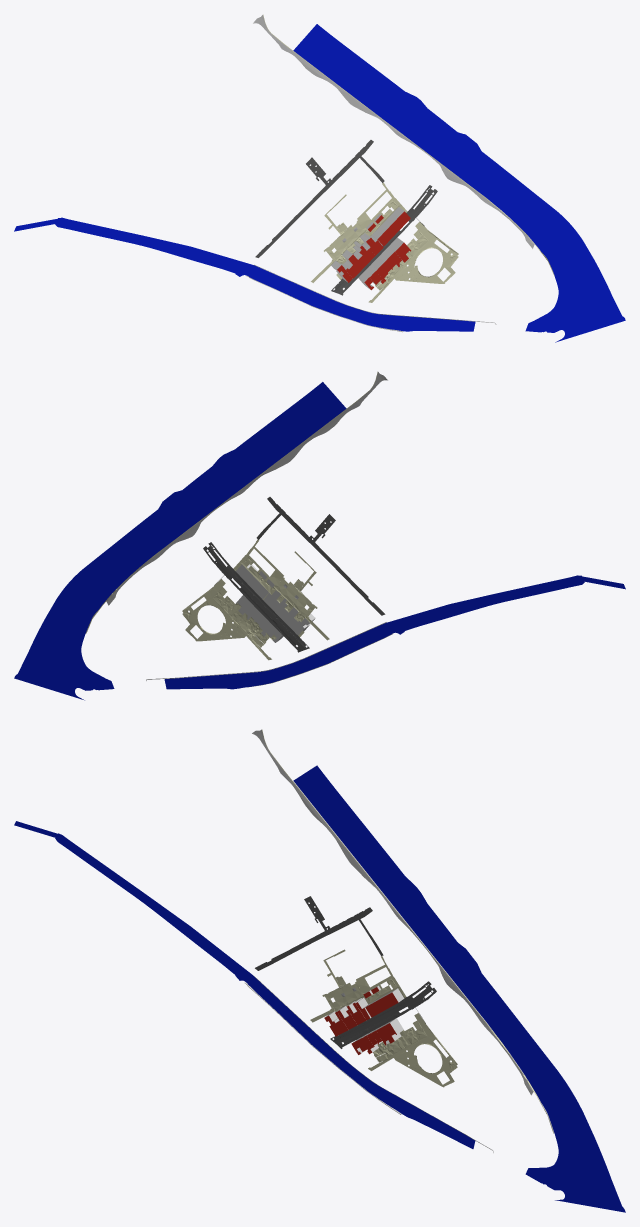
The model's file is extent_purple.obj.
The picture shows the model from 3 angles, top to bottom: view 1: azimuth 30°, elevation 25°; view 2: azimuth 150°, elevation 25°; view 3: azimuth 330°, elevation 25°; orthographic projection.
Parts seen in each view (by area): view 1: b69a8d7bc-2d38-11e6-9a38-393caa90be70, bedab6302-00c8-11e6-b420-2bdcc4ab5d7f, b2c160b4d-2d29-11e6-9a38-393caa90be70, b492abedc-00b4-11e6-b420-2bdcc4ab5d7f, b983a1b0d-00c9-11e6-b420-2bdcc4ab5d7f, b4138231e-00b4-11e6-b420-2bdcc4ab5d7f, b1128007f-00ba-11e6-b420-2bdcc4ab5d7f, b4931c302-00b4-11e6-b420-2bdcc4ab5d7f, b9f68f153-00c9-11e6-b420-2bdcc4ab5d7f; view 2: b69a8d7bc-2d38-11e6-9a38-393caa90be70, bedab6302-00c8-11e6-b420-2bdcc4ab5d7f, b2c160b4d-2d29-11e6-9a38-393caa90be70, b492abedc-00b4-11e6-b420-2bdcc4ab5d7f, b4138231e-00b4-11e6-b420-2bdcc4ab5d7f, b983a1b0d-00c9-11e6-b420-2bdcc4ab5d7f, b4931c302-00b4-11e6-b420-2bdcc4ab5d7f, baf053805-00c9-11e6-b420-2bdcc4ab5d7f, b82575848-2d29-11e6-9a38-393caa90be70, b9f68f153-00c9-11e6-b420-2bdcc4ab5d7f; view 3: b69a8d7bc-2d38-11e6-9a38-393caa90be70, bedab6302-00c8-11e6-b420-2bdcc4ab5d7f, b2c160b4d-2d29-11e6-9a38-393caa90be70, b492abedc-00b4-11e6-b420-2bdcc4ab5d7f, b983a1b0d-00c9-11e6-b420-2bdcc4ab5d7f, b4138231e-00b4-11e6-b420-2bdcc4ab5d7f, b4931c302-00b4-11e6-b420-2bdcc4ab5d7f, b82575848-2d29-11e6-9a38-393caa90be70.
Part boxes in pixels (<box>): b69a8d7bc-2d38-11e6-9a38-393caa90be70: <box>293,24,625,342</box>; bedab6302-00c8-11e6-b420-2bdcc4ab5d7f: <box>14,217,475,331</box>; b2c160b4d-2d29-11e6-9a38-393caa90be70: <box>253,15,534,248</box>; b492abedc-00b4-11e6-b420-2bdcc4ab5d7f: <box>368,222,458,302</box>; b983a1b0d-00c9-11e6-b420-2bdcc4ab5d7f: <box>255,140,384,257</box>; b4138231e-00b4-11e6-b420-2bdcc4ab5d7f: <box>311,182,407,282</box>; b1128007f-00ba-11e6-b420-2bdcc4ab5d7f: <box>372,207,410,246</box>; b4931c302-00b4-11e6-b420-2bdcc4ab5d7f: <box>375,230,428,290</box>; b9f68f153-00c9-11e6-b420-2bdcc4ab5d7f: <box>339,189,437,295</box>; b69a8d7bc-2d38-11e6-9a38-393caa90be70: <box>14,382,346,700</box>; bedab6302-00c8-11e6-b420-2bdcc4ab5d7f: <box>164,575,625,689</box>; b2c160b4d-2d29-11e6-9a38-393caa90be70: <box>106,372,387,605</box>; b492abedc-00b4-11e6-b420-2bdcc4ab5d7f: <box>182,579,271,660</box>; b4138231e-00b4-11e6-b420-2bdcc4ab5d7f: <box>233,539,329,640</box>; b983a1b0d-00c9-11e6-b420-2bdcc4ab5d7f: <box>256,497,385,615</box>; b4931c302-00b4-11e6-b420-2bdcc4ab5d7f: <box>212,587,276,647</box>; baf053805-00c9-11e6-b420-2bdcc4ab5d7f: <box>208,546,306,651</box>; b82575848-2d29-11e6-9a38-393caa90be70: <box>85,371,377,633</box>; b9f68f153-00c9-11e6-b420-2bdcc4ab5d7f: <box>203,546,301,652</box>; b69a8d7bc-2d38-11e6-9a38-393caa90be70: <box>293,765,625,1212</box>; bedab6302-00c8-11e6-b420-2bdcc4ab5d7f: <box>14,821,475,1148</box>; b2c160b4d-2d29-11e6-9a38-393caa90be70: <box>252,729,533,1095</box>; b492abedc-00b4-11e6-b420-2bdcc4ab5d7f: <box>368,1013,457,1087</box>; b983a1b0d-00c9-11e6-b420-2bdcc4ab5d7f: <box>255,896,383,970</box>; b4138231e-00b4-11e6-b420-2bdcc4ab5d7f: <box>310,956,406,1022</box>; b4931c302-00b4-11e6-b420-2bdcc4ab5d7f: <box>373,1020,427,1062</box>; b82575848-2d29-11e6-9a38-393caa90be70: <box>262,729,554,1133</box>.
Size of the model in its own units: 524 by 328 by 10.62.
